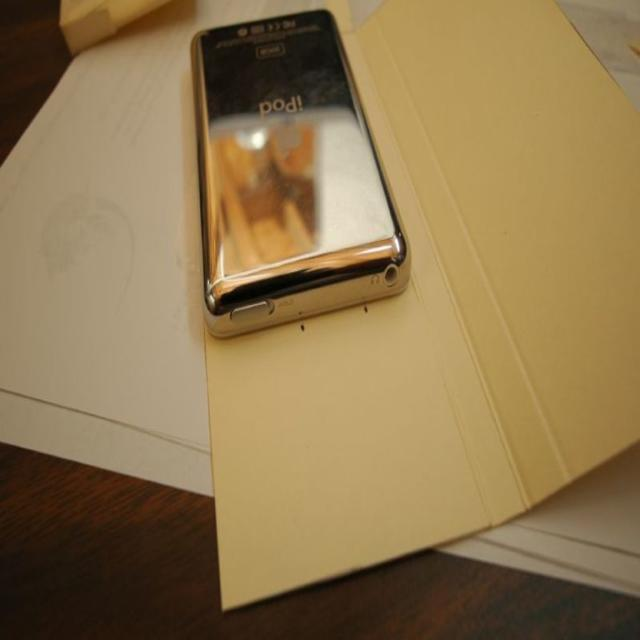Mobile-phone: (182, 11, 420, 339)
